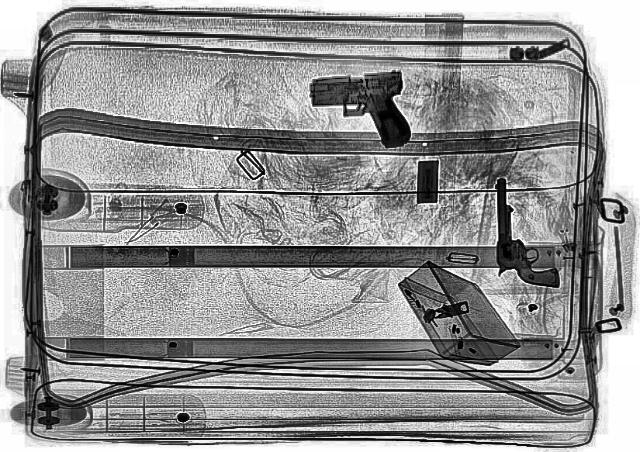Gun: (300, 59, 434, 161), (485, 176, 559, 288)
